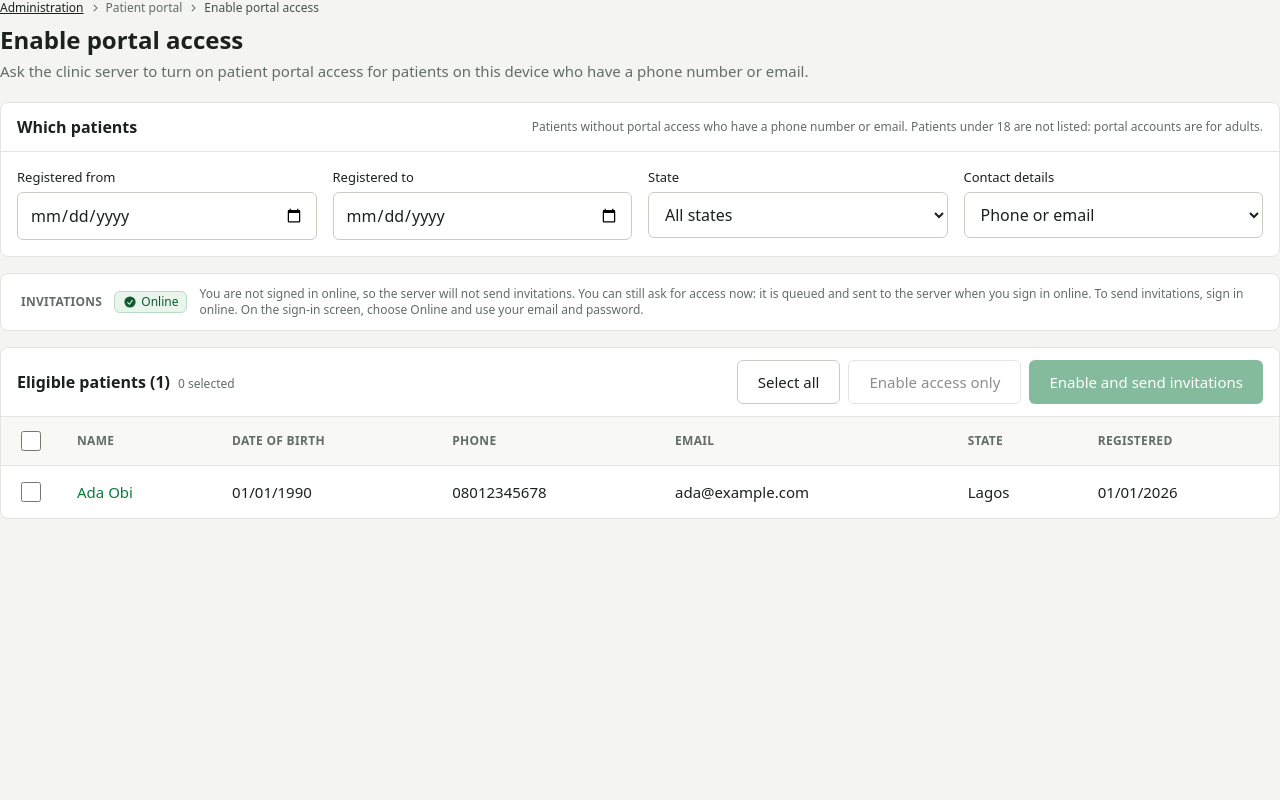
Scenario: PortalMigration invitations › still asks for access without invitations when not signed in online, and says it is queued
Click the checkbox named "Select Ada Obi". click: click(31, 492)
box: [21,482,41,502]
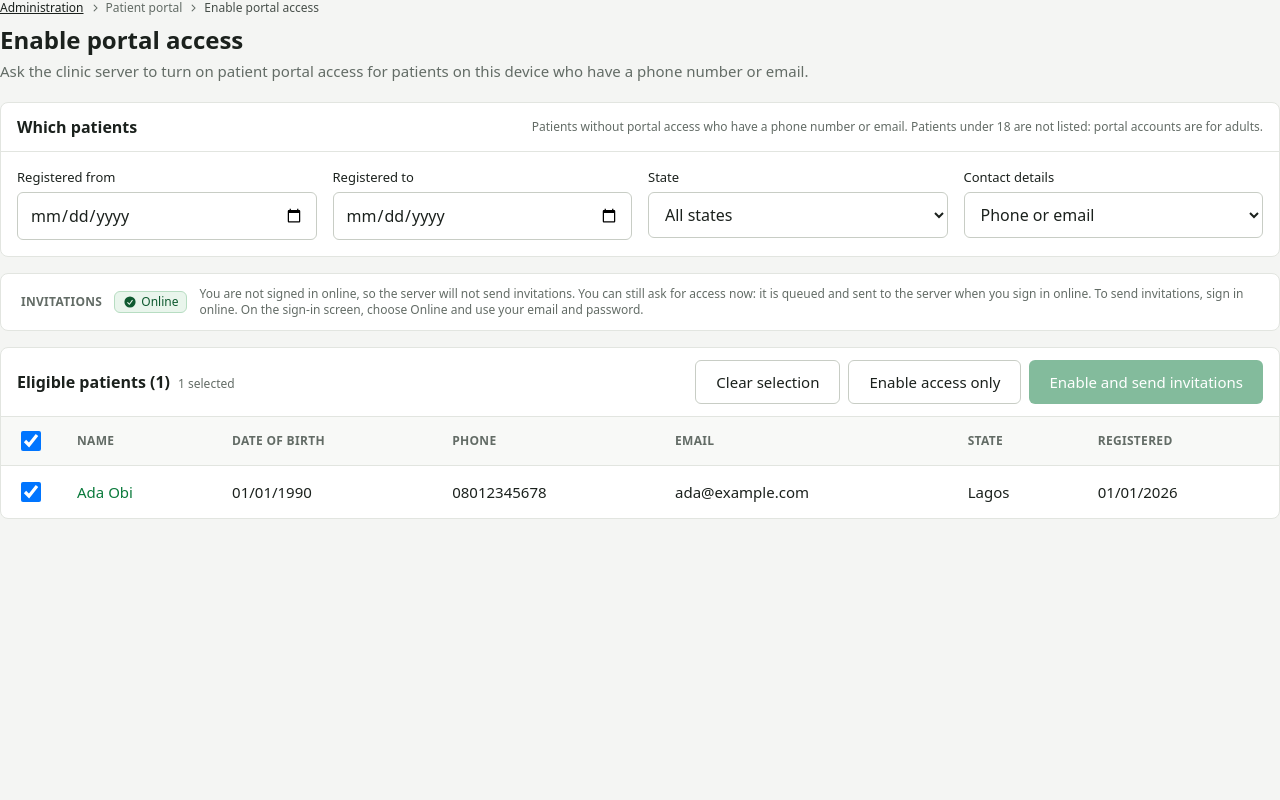
Click the button "Enable access only". click: click(935, 382)
box: [848,360,1021,404]
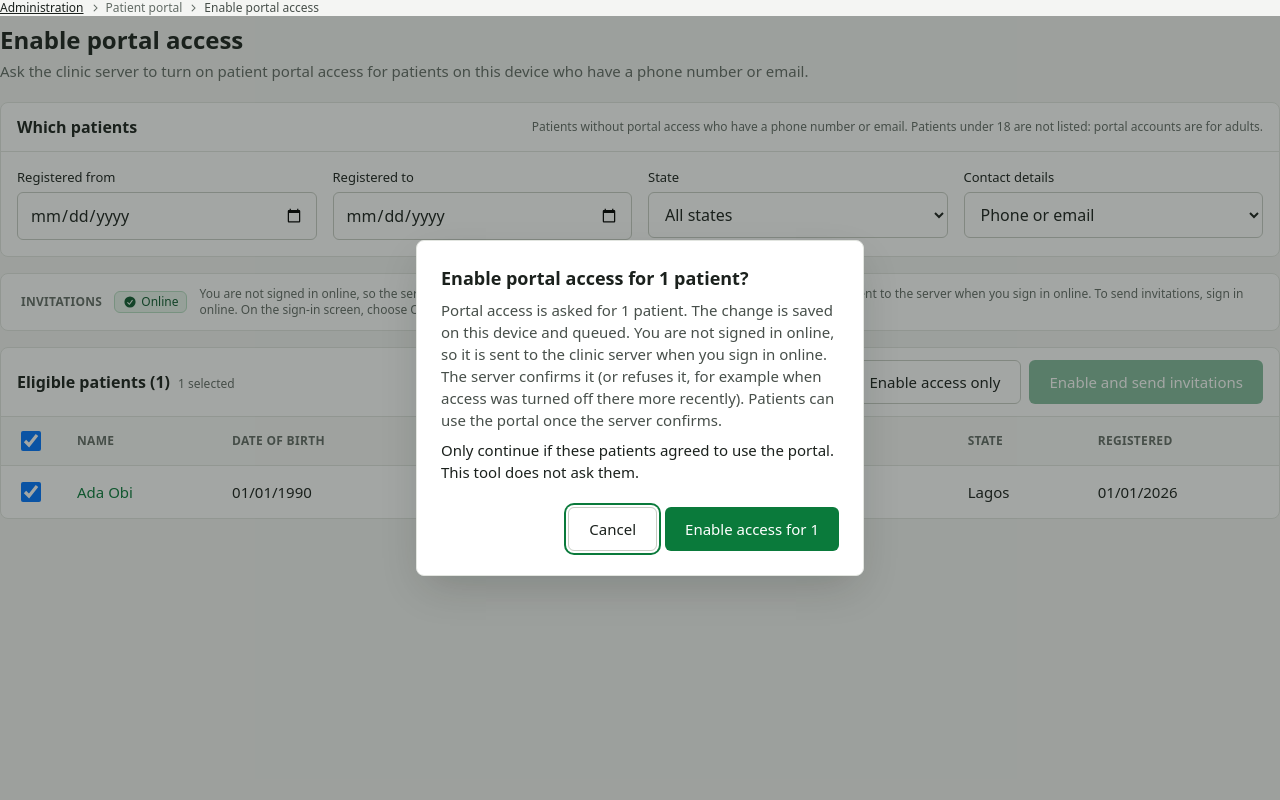
Now the dialog shows "sent to the clinic server when you sign in online", box [441,300,834,430]
Click the button "Enable access for 1". click: click(752, 529)
box: [665,507,839,551]
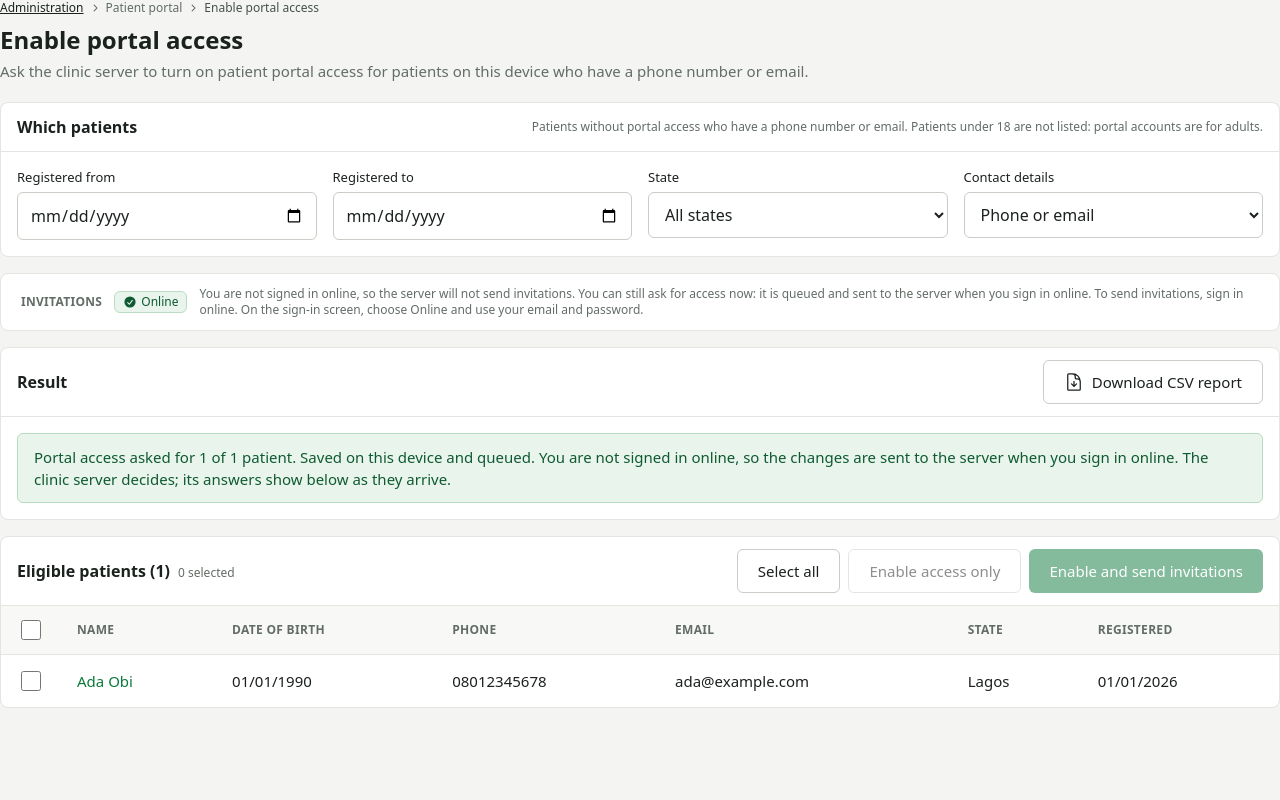
Expected: the text "Portal access asked for 1 of 1 patient" does not show "on this device only", [34,446,1246,490]
Now the text "Portal access asked for 1 of 1 patient" shows "sent to the server when you sign in online", box [34,447,1208,489]
